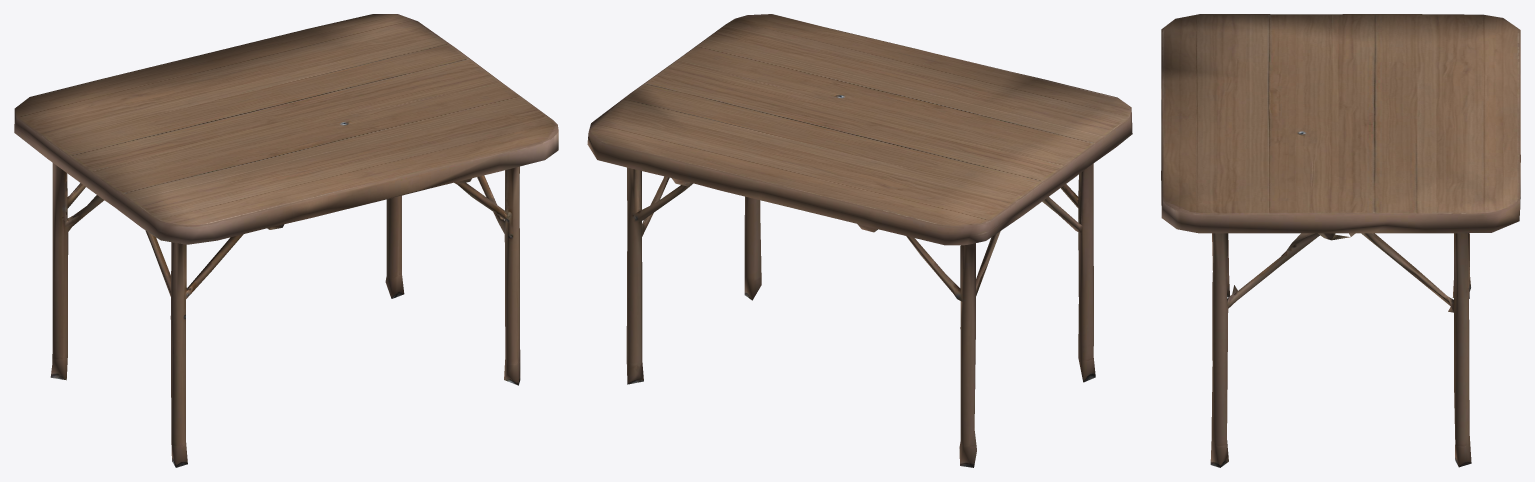
3 renders of one model, left to right at view 1: azimuth 30°, elevation 25°; view 2: azimuth 150°, elevation 25°; view 3: azimuth 270°, elevation 25°, orthographic. The views are drawn at different scales.
Visible parts, largest first — view 1: Mesh1.0; view 2: Mesh1.0; view 3: Mesh1.0.
Boxes of the visible parts, x1,y1,x2,y2 form: Mesh1.0: [14, 14, 558, 467]; Mesh1.0: [587, 14, 1132, 467]; Mesh1.0: [1161, 14, 1520, 467].
Size of the model in its own units: 201 by 125 by 152.
1 material, 1 textured.
